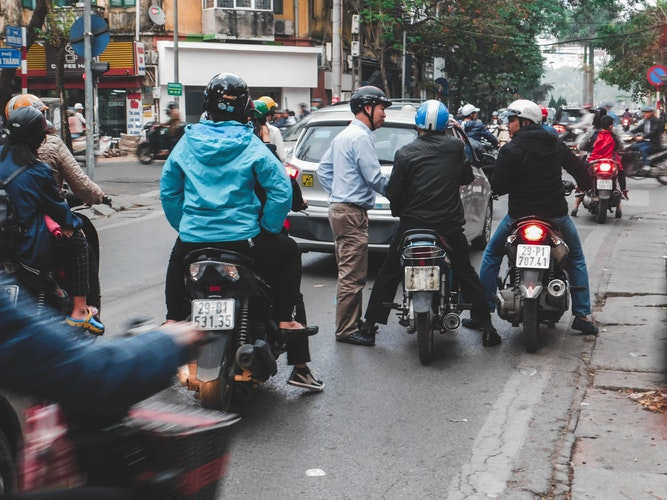helmet: (201, 71, 249, 122), (343, 84, 392, 116), (412, 104, 454, 133), (3, 98, 48, 122), (514, 101, 550, 122)
